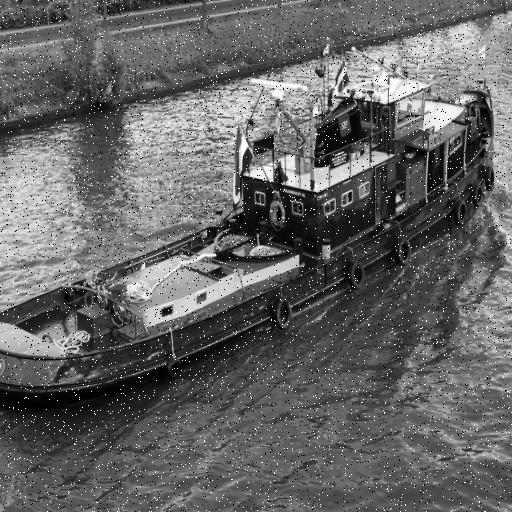tugboat: (1, 42, 502, 421)
